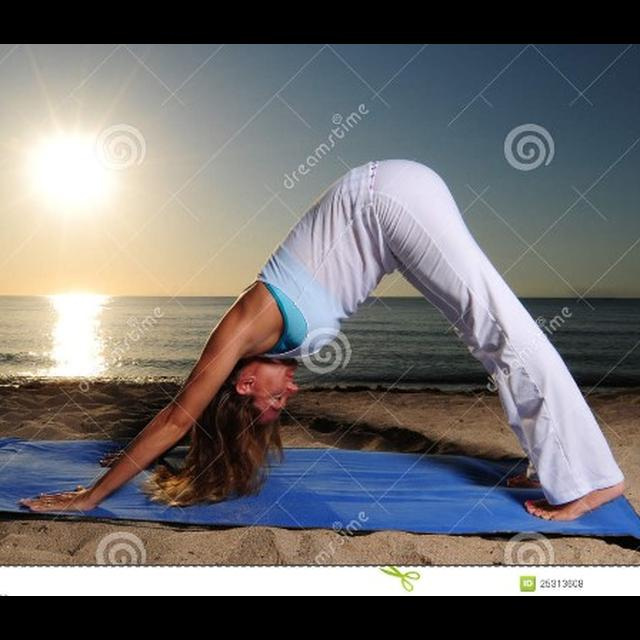Downward-Facing_Dog: (16, 149, 639, 524)
